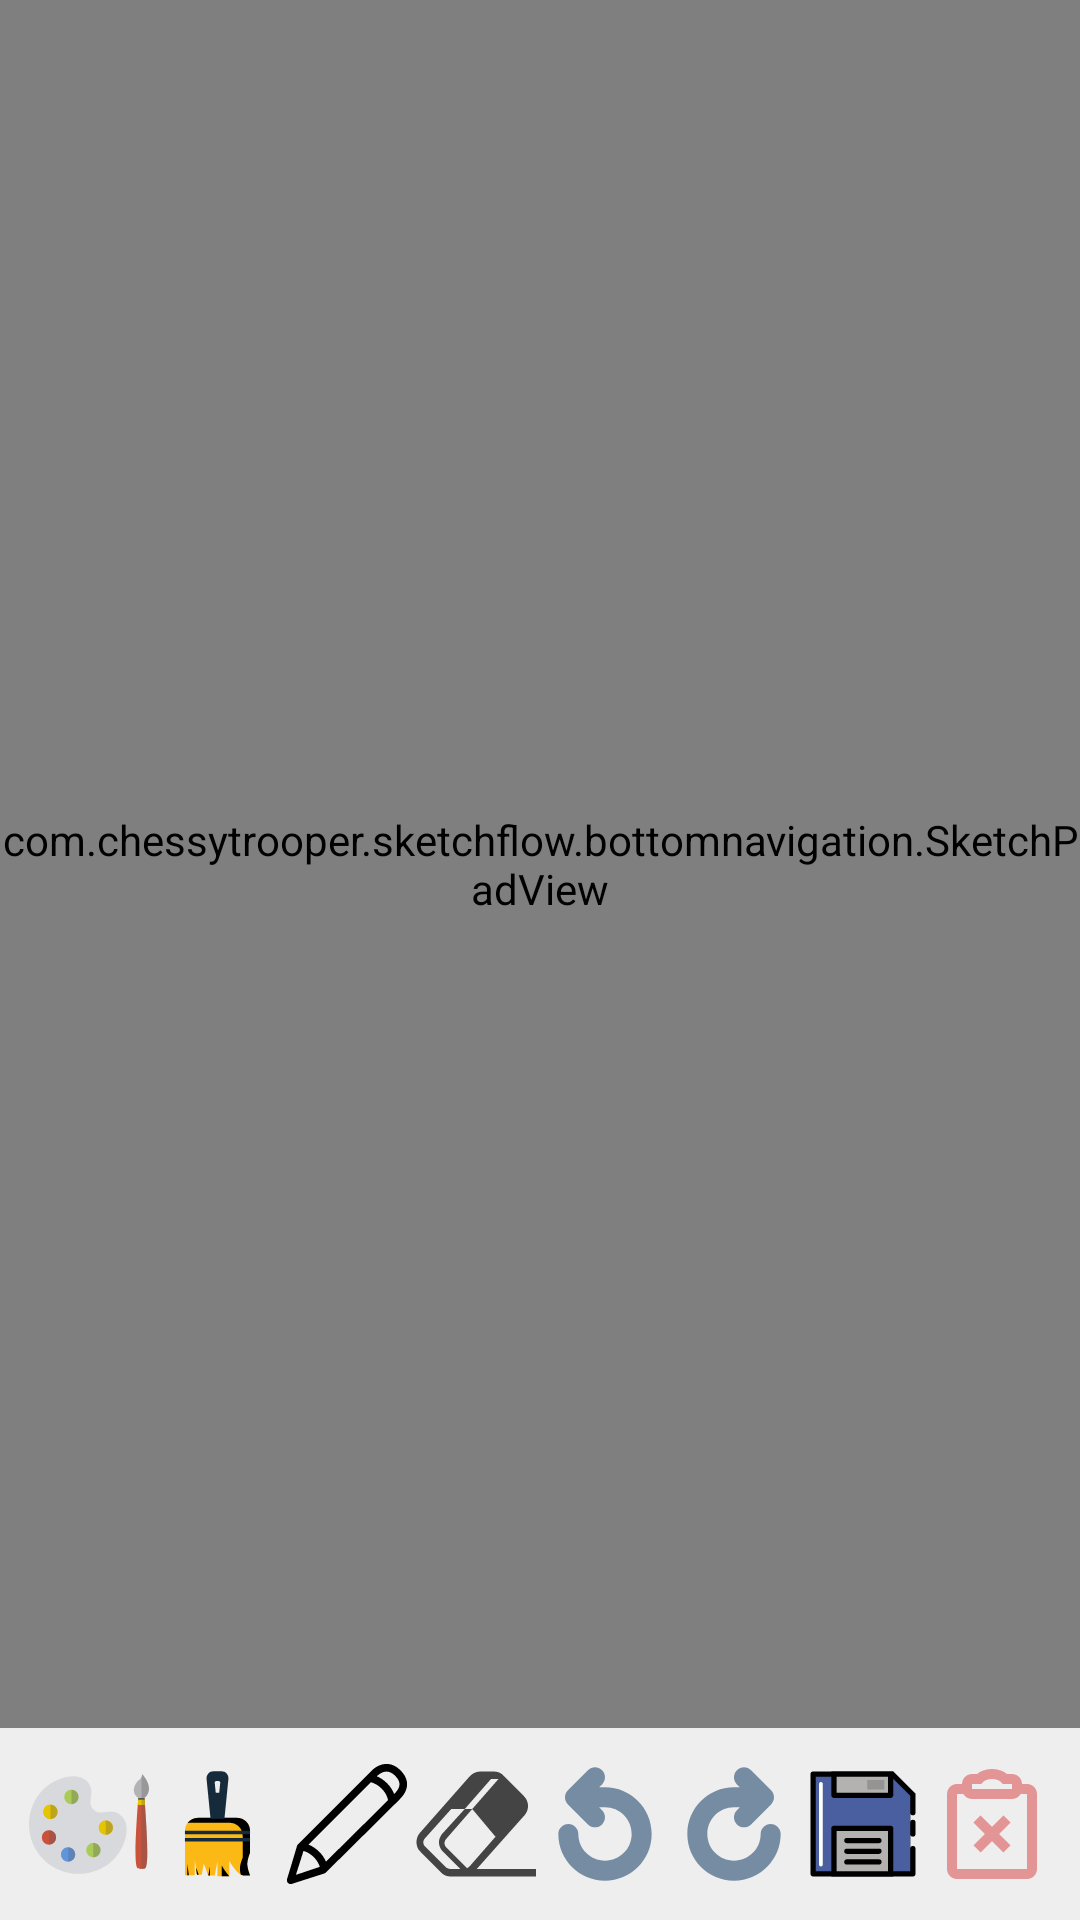

Locate icon controls on the screen. Image size 1080*1920, boxes as (x1, y1, x2, y2).
Brush: (185, 1771, 250, 1877)
Clear: (947, 1769, 1037, 1879)
Color Palette: (41, 1774, 149, 1869)
Eraser: (416, 1771, 536, 1877)
Pencil: (287, 1764, 407, 1884)
Redo: (687, 1767, 781, 1881)
Save: (810, 1771, 916, 1877)
Undo: (558, 1767, 652, 1881)
